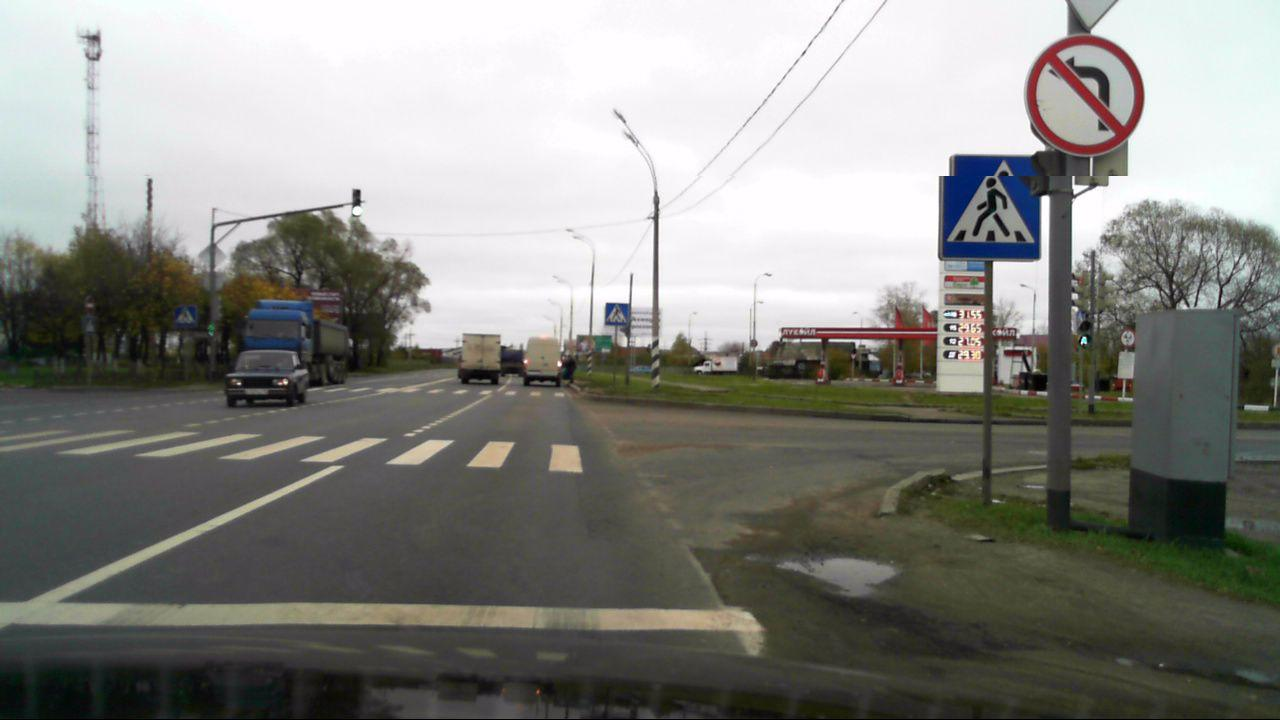3_1: (82, 294, 99, 315)
3_13: (1120, 328, 1136, 347)
3_18_2: (1024, 35, 1145, 158)
5_19_1: (936, 154, 1045, 263), (603, 300, 629, 326), (83, 317, 98, 334)
5_19_2: (173, 305, 197, 328)
